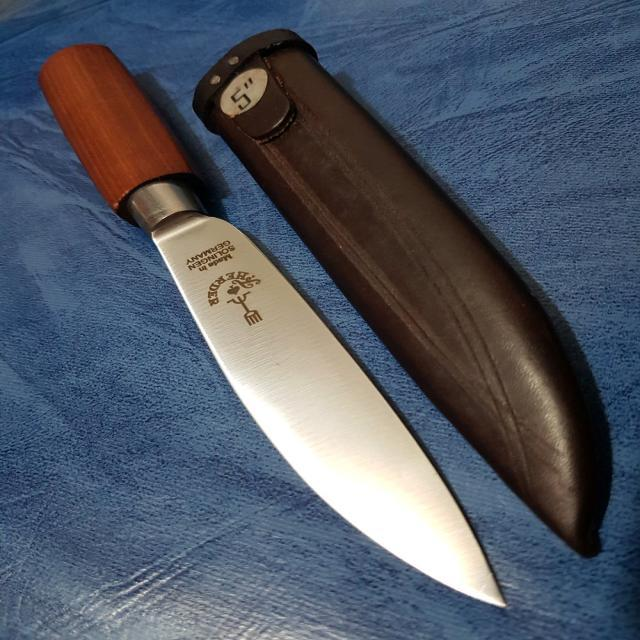Pisau: (25, 28, 531, 629)
